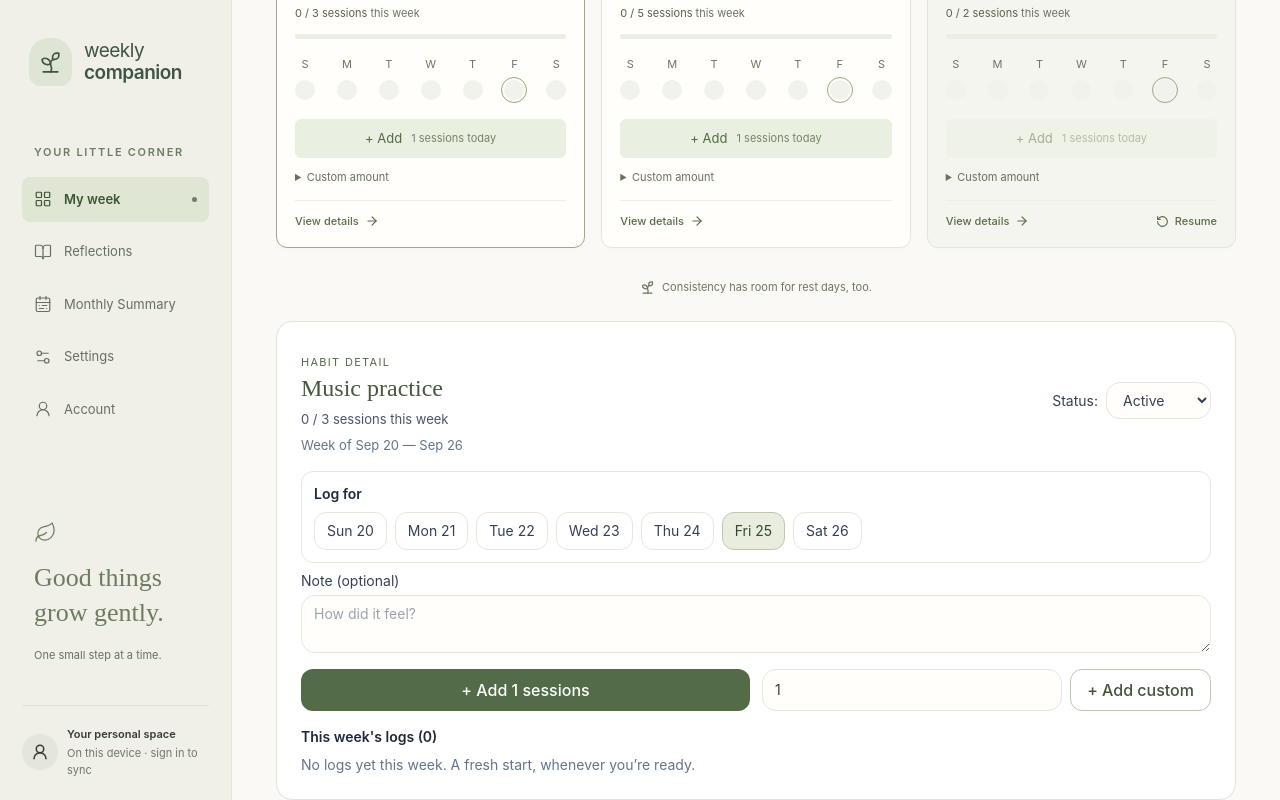
Test case: App layout and navigation › lets users change habit status from detail
The image size is (1280, 800).
(page scrolled)
Step 1. Select "Paused" in the dropdown labelled "Status:" → (1158, 401), box [1106,382,1211,419]
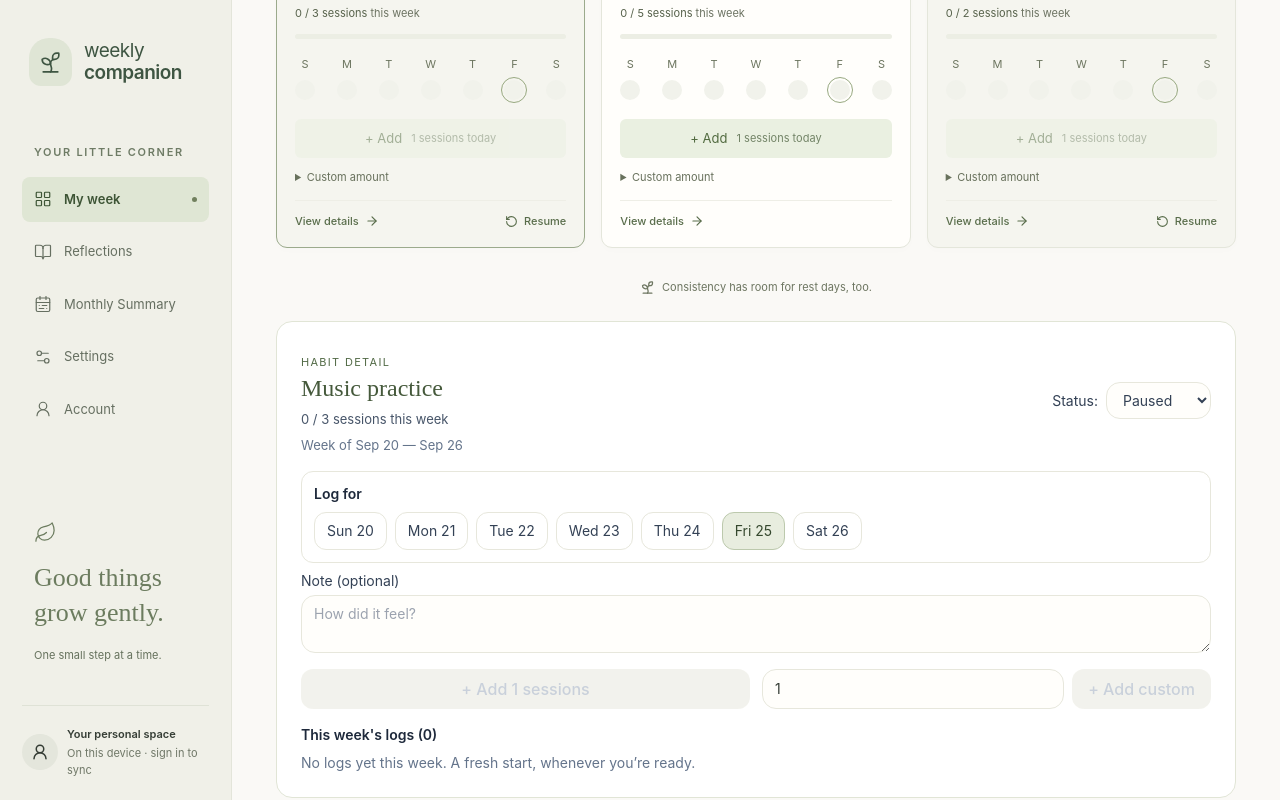
Now the button "+ Add 1 sessions" is disabled, box [301,669,750,709]
